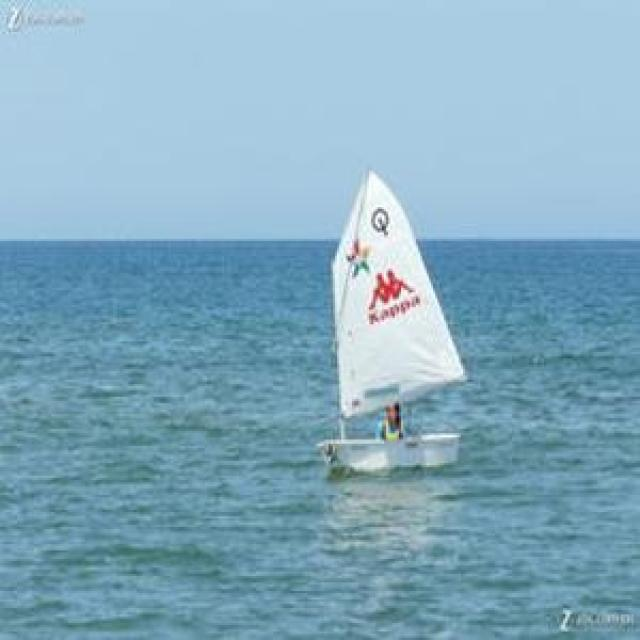sailboat: (276, 166, 489, 481)
